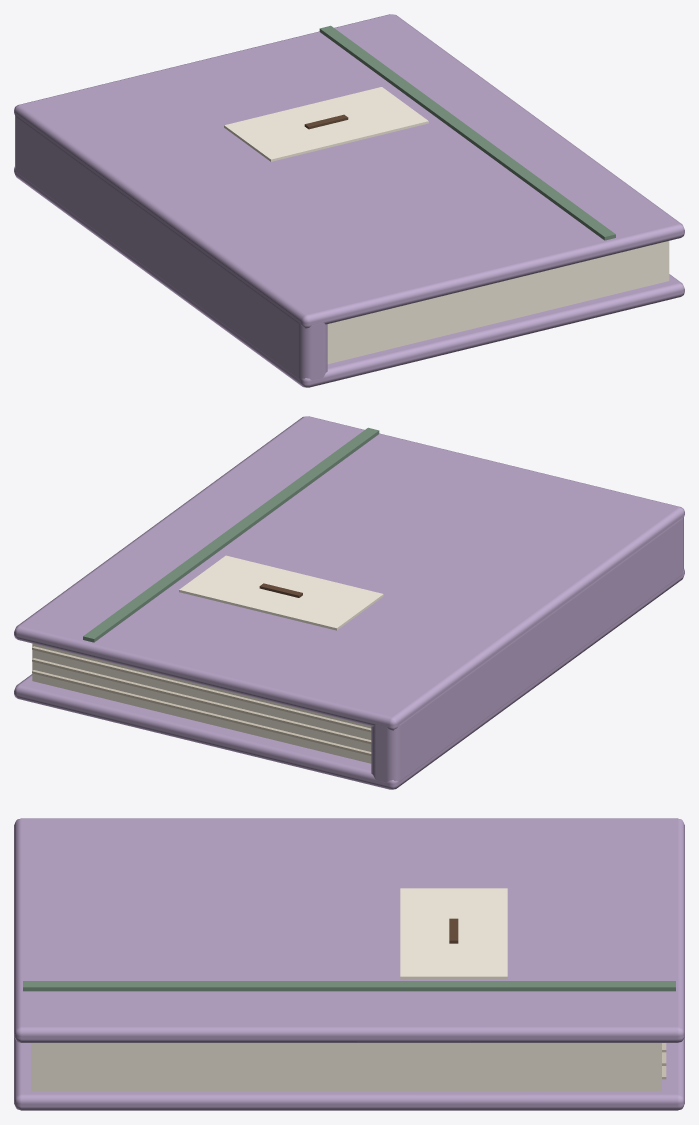
File: notebook.glb
3 views of the same model, one above another, from view 1: azimuth 30°, elevation 25°; view 2: azimuth 150°, elevation 25°; view 3: azimuth 270°, elevation 25° (orthographic). The views are drawn at different scales.
Visible parts, largest first — view 1: notebook.material0, notebook.material1, notebook.material3; view 2: notebook.material0, notebook.material1, notebook.material2, notebook.material3; view 3: notebook.material0, notebook.material1, notebook.material3.
Part boxes in pixels (x1,y1,x2,y2): notebook.material0: (14,14,684,387); notebook.material1: (224,87,669,364); notebook.material3: (319,25,615,240); notebook.material0: (14,416,684,789); notebook.material1: (32,555,383,763); notebook.material2: (32,646,371,755); notebook.material3: (83,427,379,642); notebook.material0: (14,818,684,1110); notebook.material1: (31,888,661,1091); notebook.material3: (23,981,675,991).
Size of the model in its own units: 0.3405 by 0.066 by 0.45.
